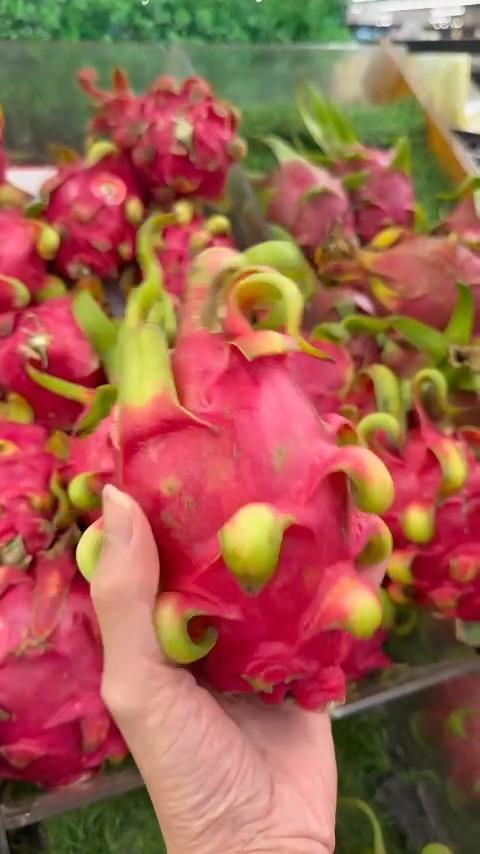dragon fruit: (67, 252, 393, 731), (77, 54, 260, 195), (13, 284, 104, 432), (33, 149, 143, 267)
